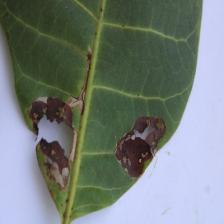leaf miner: (0, 0, 204, 224), (113, 114, 166, 179)
